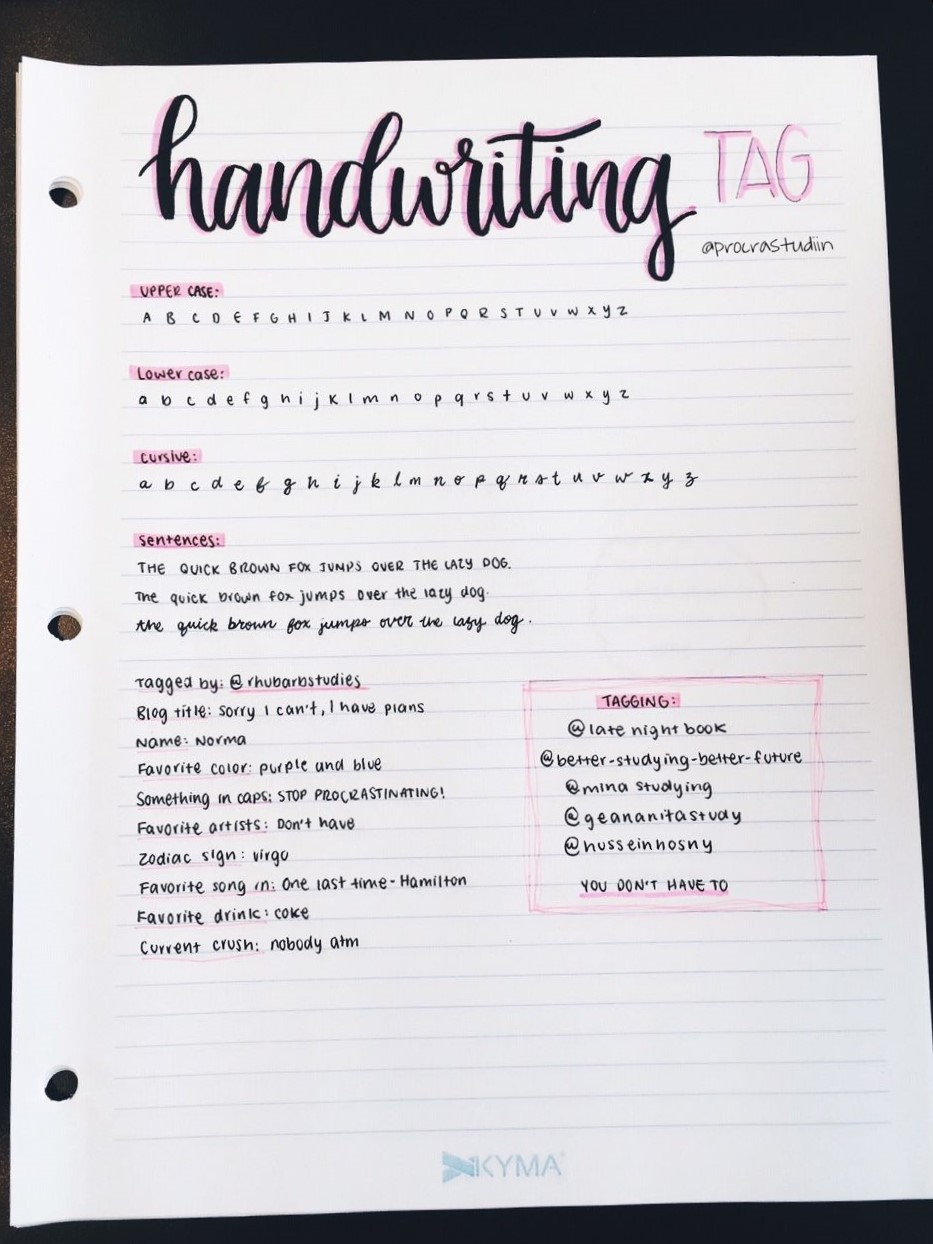page: (35, 76, 874, 1186)
